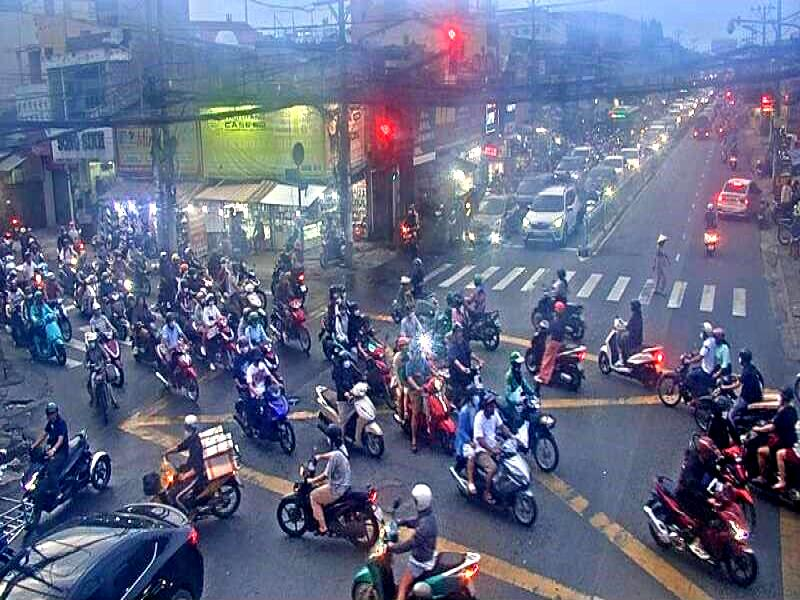car: (0, 487, 210, 600), (524, 182, 578, 253)
motorcycle: (628, 460, 793, 600), (306, 526, 522, 597), (438, 430, 564, 528), (275, 464, 385, 557), (1, 431, 119, 515), (456, 391, 553, 464), (596, 305, 681, 387), (228, 376, 305, 461), (314, 382, 383, 462), (523, 317, 593, 386), (149, 333, 211, 402), (17, 320, 67, 357)
